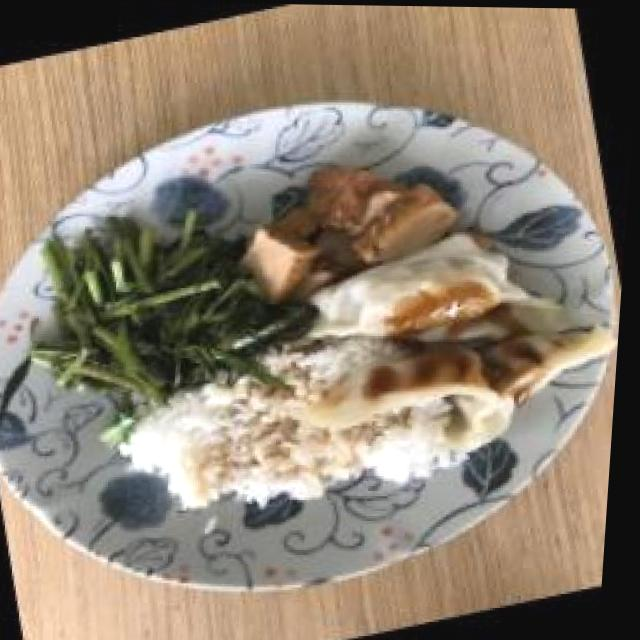fried_dumplings: (323, 234, 578, 432)
rice: (158, 372, 339, 514)
water_spinach: (53, 231, 261, 391)
